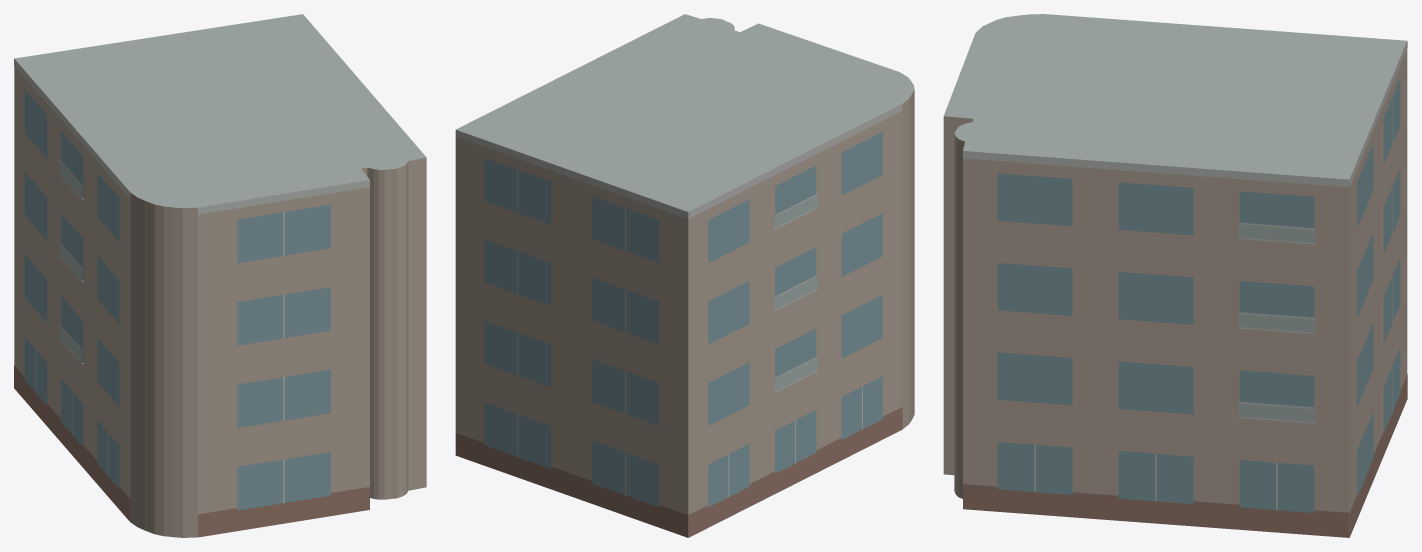
The model's file is survey-upis-32701775.glb.
The picture shows the model from 3 angles, left to right: view 1: azimuth 30°, elevation 25°; view 2: azimuth 150°, elevation 25°; view 3: azimuth 270°, elevation 25°; orthographic projection. The views are drawn at different scales.
Visible parts, largest first — view 1: survey-upis-32701775.tmp; view 2: survey-upis-32701775.tmp; view 3: survey-upis-32701775.tmp.
Boxes of the visible parts, x1,y1,x2,y2 form: survey-upis-32701775.tmp: (14,14,426,537); survey-upis-32701775.tmp: (455,14,914,537); survey-upis-32701775.tmp: (943,14,1407,537).
Size of the model in its own units: 11.31 by 11.4 by 13.39.
